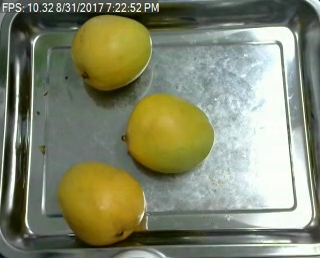Mango: (54, 161, 146, 246), (125, 95, 213, 173), (73, 13, 152, 91)
